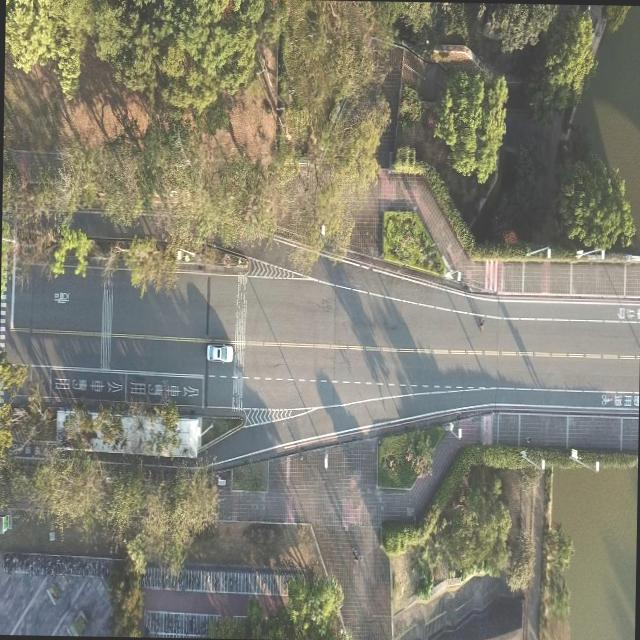car: (202, 337, 238, 369)
